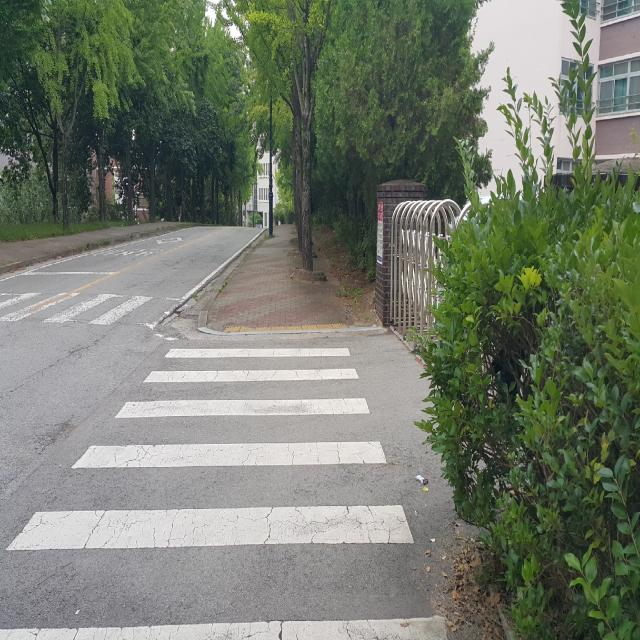횡단보도: (0, 339, 451, 640), (0, 283, 186, 330)
